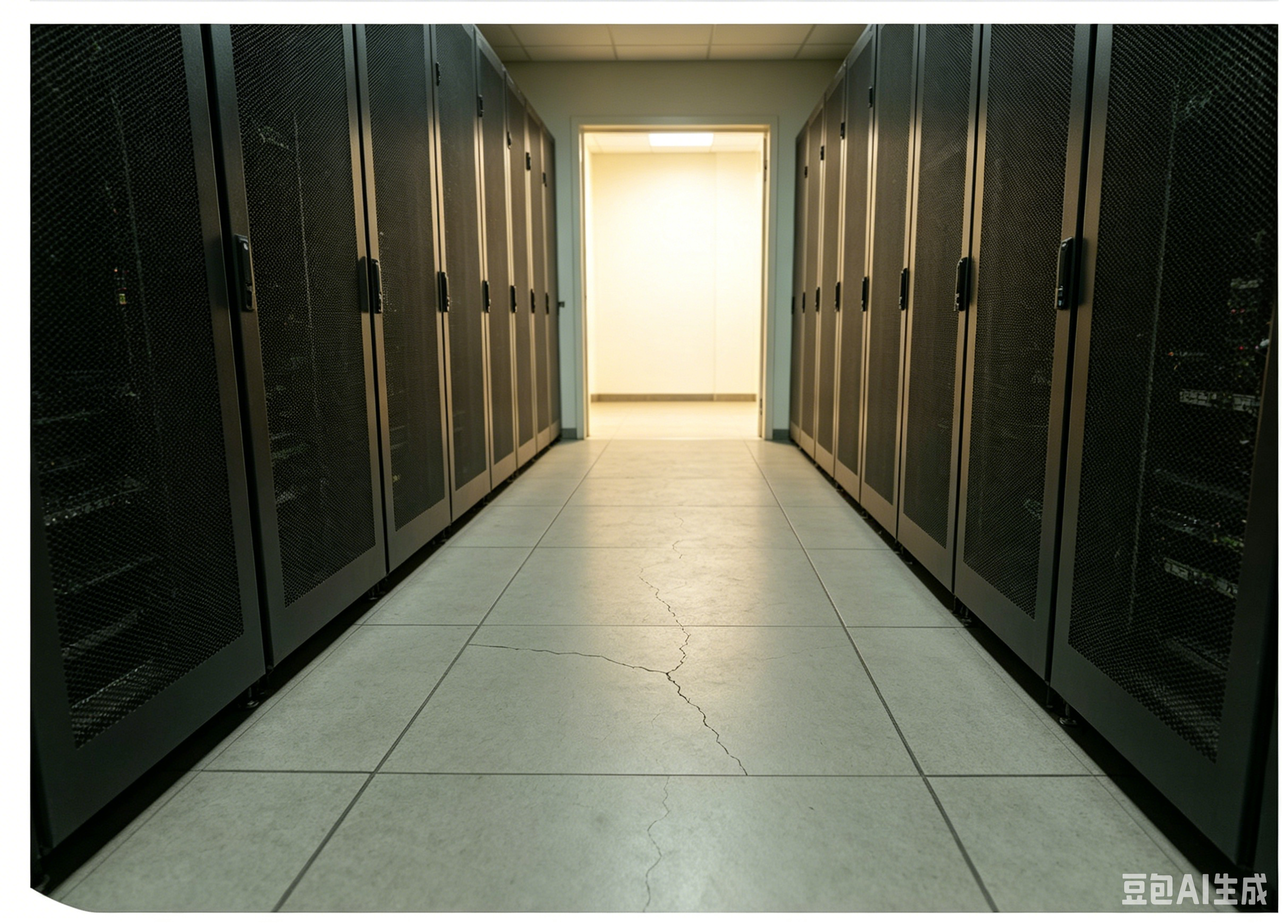floor_defect: (665, 674, 762, 779), (445, 639, 670, 682), (635, 774, 697, 915), (640, 545, 706, 674)
